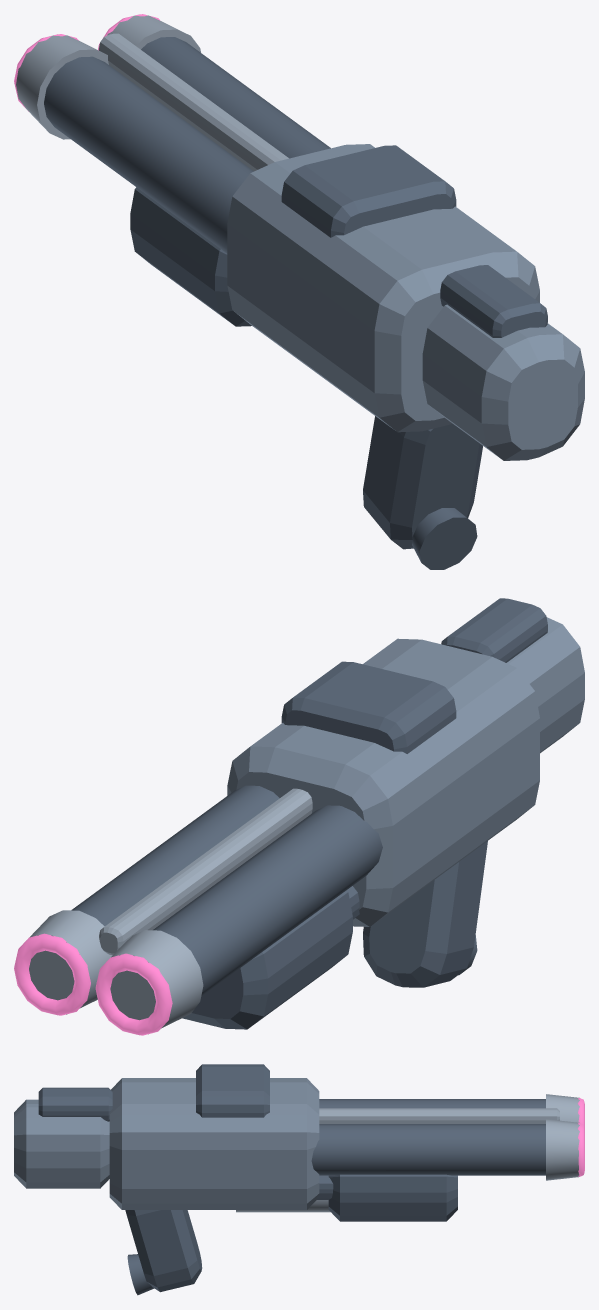
File: scatter.glb
3 views of the same model, one above another, from view 1: azimuth 30°, elevation 25°; view 2: azimuth 150°, elevation 25°; view 3: azimuth 270°, elevation 25° (orthographic). The views are drawn at different scales.
Visible parts, largest first — view 1: scatter; view 2: scatter; view 3: scatter.
Part boxes in pixels (x1,y1,x2,y2): scatter: (14,14,584,569); scatter: (14,598,584,1035); scatter: (14,1064,584,1295).
Bounding box in the file's own units: 0.196 × 0.3842 × 0.9258.
